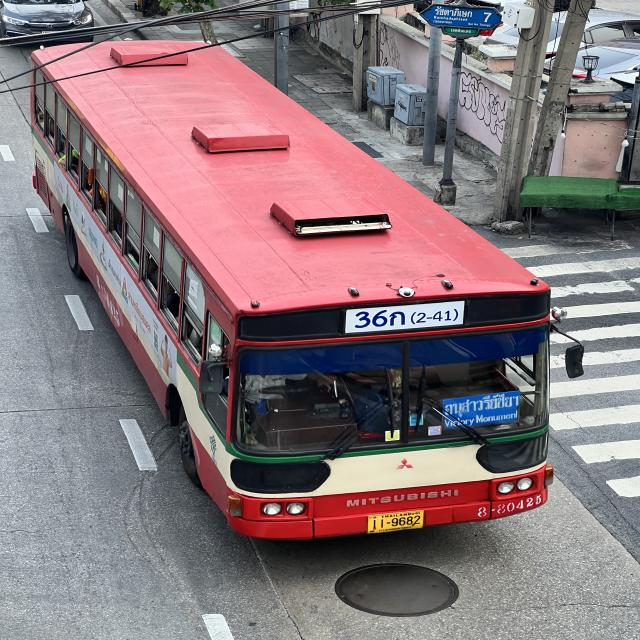BMTA-bus: (29, 40, 554, 544)
Bus-Line-Number: (342, 306, 464, 332)
Destination-Sign-Normal: (440, 394, 520, 426)
